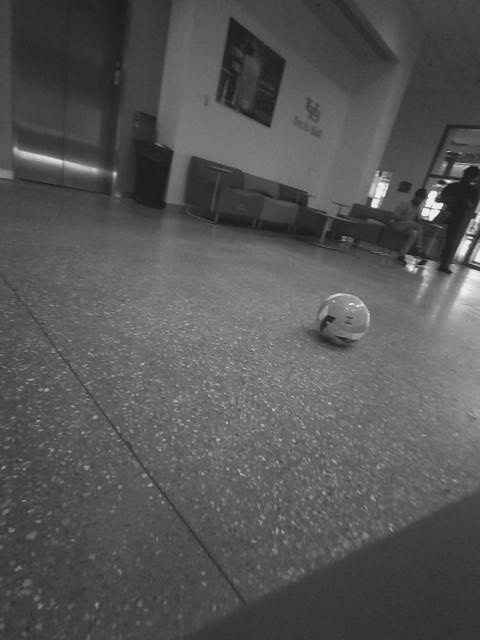ball: (232, 355, 275, 401)
